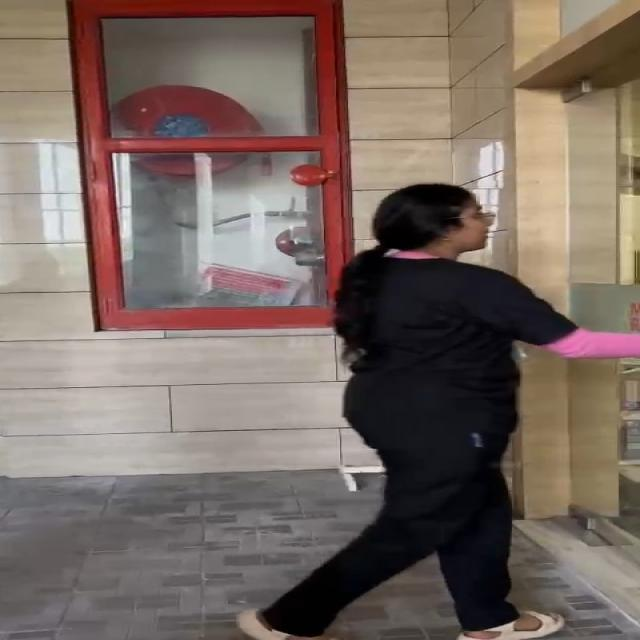door: (40, 5, 342, 342), (518, 26, 640, 504)
floor: (0, 426, 215, 640)
moving_object: (374, 180, 594, 640)
